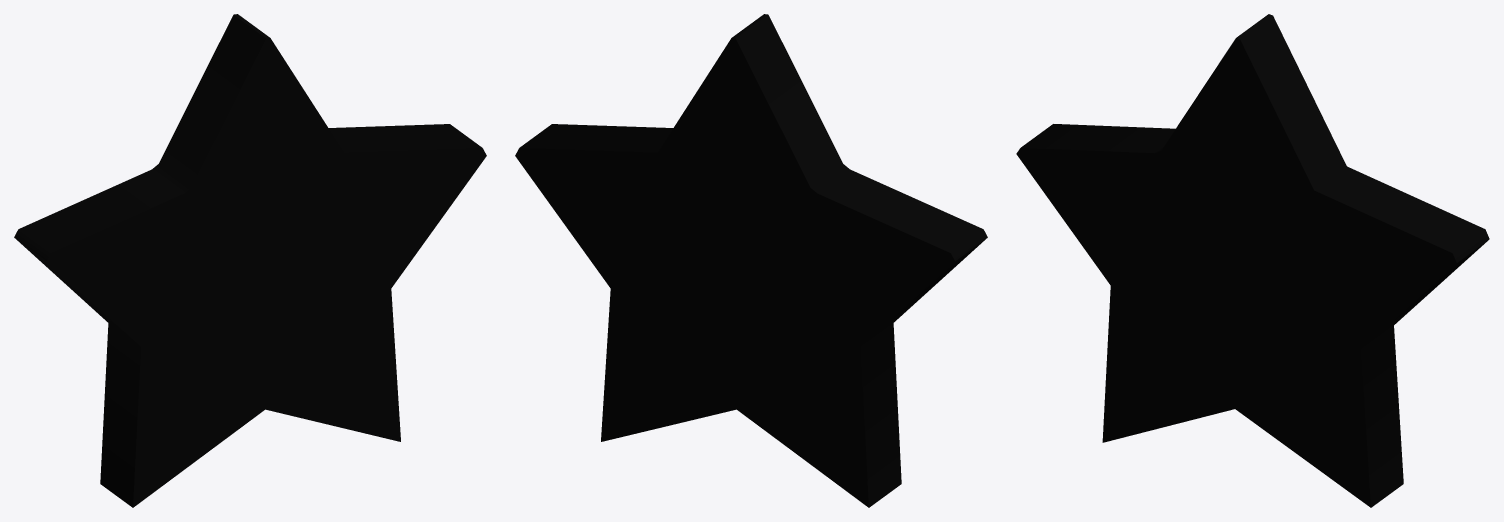
Rendered from Star1.fbx.
The picture shows the model from 3 angles, left to right: view 1: azimuth 30°, elevation 25°; view 2: azimuth 150°, elevation 25°; view 3: azimuth 330°, elevation 25°; orthographic projection.
Parts seen in each view (by area): view 1: root; view 2: root; view 3: root.
Part boxes in pixels (bbox=[...]): root: bbox=[14, 14, 486, 507]; root: bbox=[515, 14, 987, 507]; root: bbox=[1016, 14, 1489, 507].
Size of the model in its own units: 0.4554 by 0.432 by 0.0587.
Materials: 1 (1 with a texture image).
